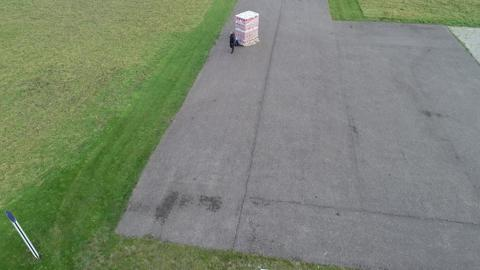RockwoolPallet: (234, 9, 259, 45)
